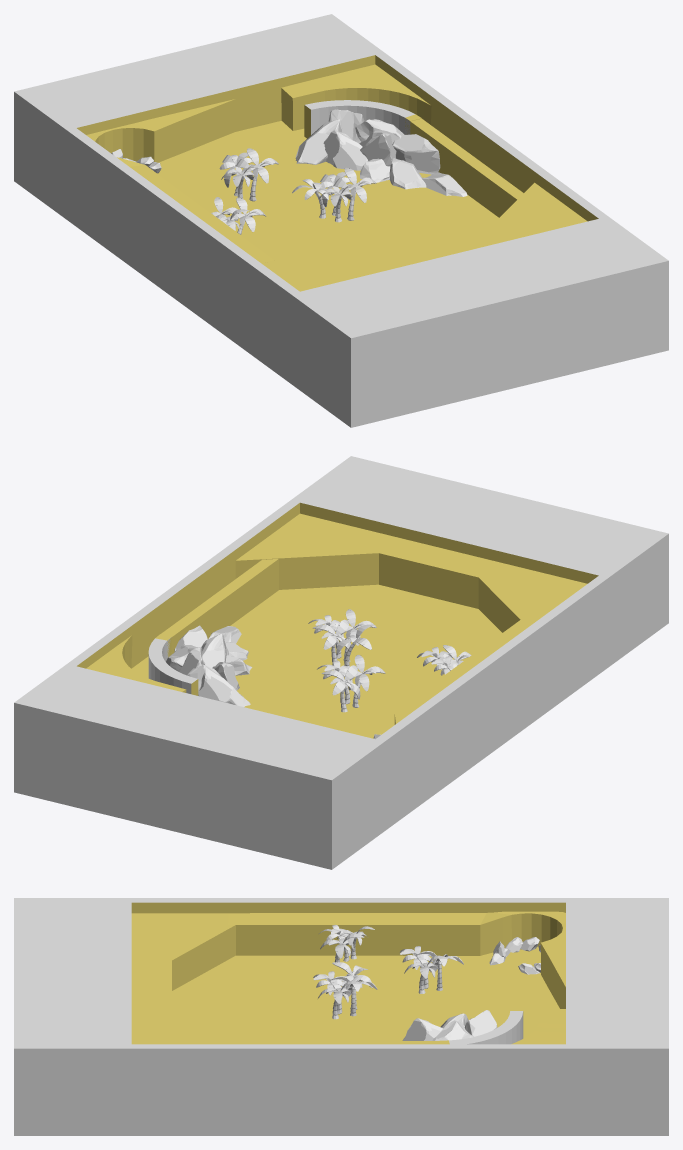
File: pinball2.fbx
3 renders of one model, top to bottom at view 1: azimuth 30°, elevation 25°; view 2: azimuth 150°, elevation 25°; view 3: azimuth 270°, elevation 25°, orthographic. The views are drawn at different scales.
Visible parts, largest first — view 1: Cube, Rocks, TreesRight, TreesLeftTop, TreesLeftBottom; view 2: Cube, Rocks, TreesRight, TreesLeftTop, TreesLeftBottom; view 3: Cube, Rocks, TreesRight, TreesLeftTop, TreesLeftBottom, Campfire.
Boxes of the visible parts, x1,y1,x2,y2 form: Cube: (14,14,668,427); Rocks: (295,109,467,196); TreesRight: (292,167,376,222); TreesLeftTop: (219,148,278,201); TreesLeftBottom: (211,197,266,234); Cube: (14,456,668,869); Rocks: (166,625,252,706); TreesRight: (308,609,376,667); TreesLeftTop: (317,654,385,712); TreesLeftBottom: (417,645,471,675); Cube: (14,898,668,1135); Rocks: (402,1010,497,1040); TreesRight: (313,962,377,1019); TreesLeftTop: (399,946,463,993); TreesLeftBottom: (319,924,374,962); Campfire: (489,937,540,974).
Size of the model in its own units: 1173 by 316 by 2154.
